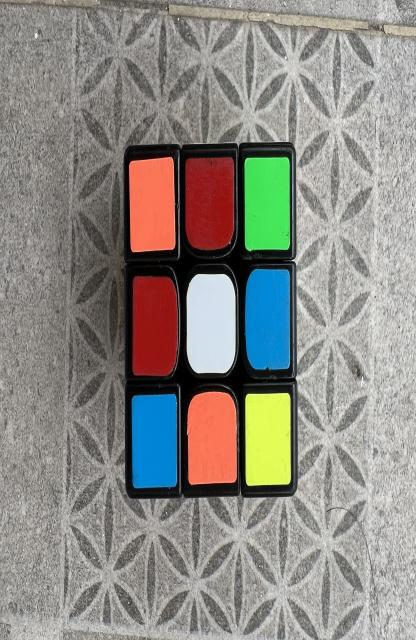Blue: (245, 268, 290, 370), (132, 395, 177, 488)
Green: (245, 157, 290, 252)
Orange: (187, 392, 237, 485), (129, 157, 176, 252)
Red: (132, 277, 178, 377), (185, 157, 234, 250)
White: (187, 273, 236, 373)
Yellow: (245, 393, 291, 487)
